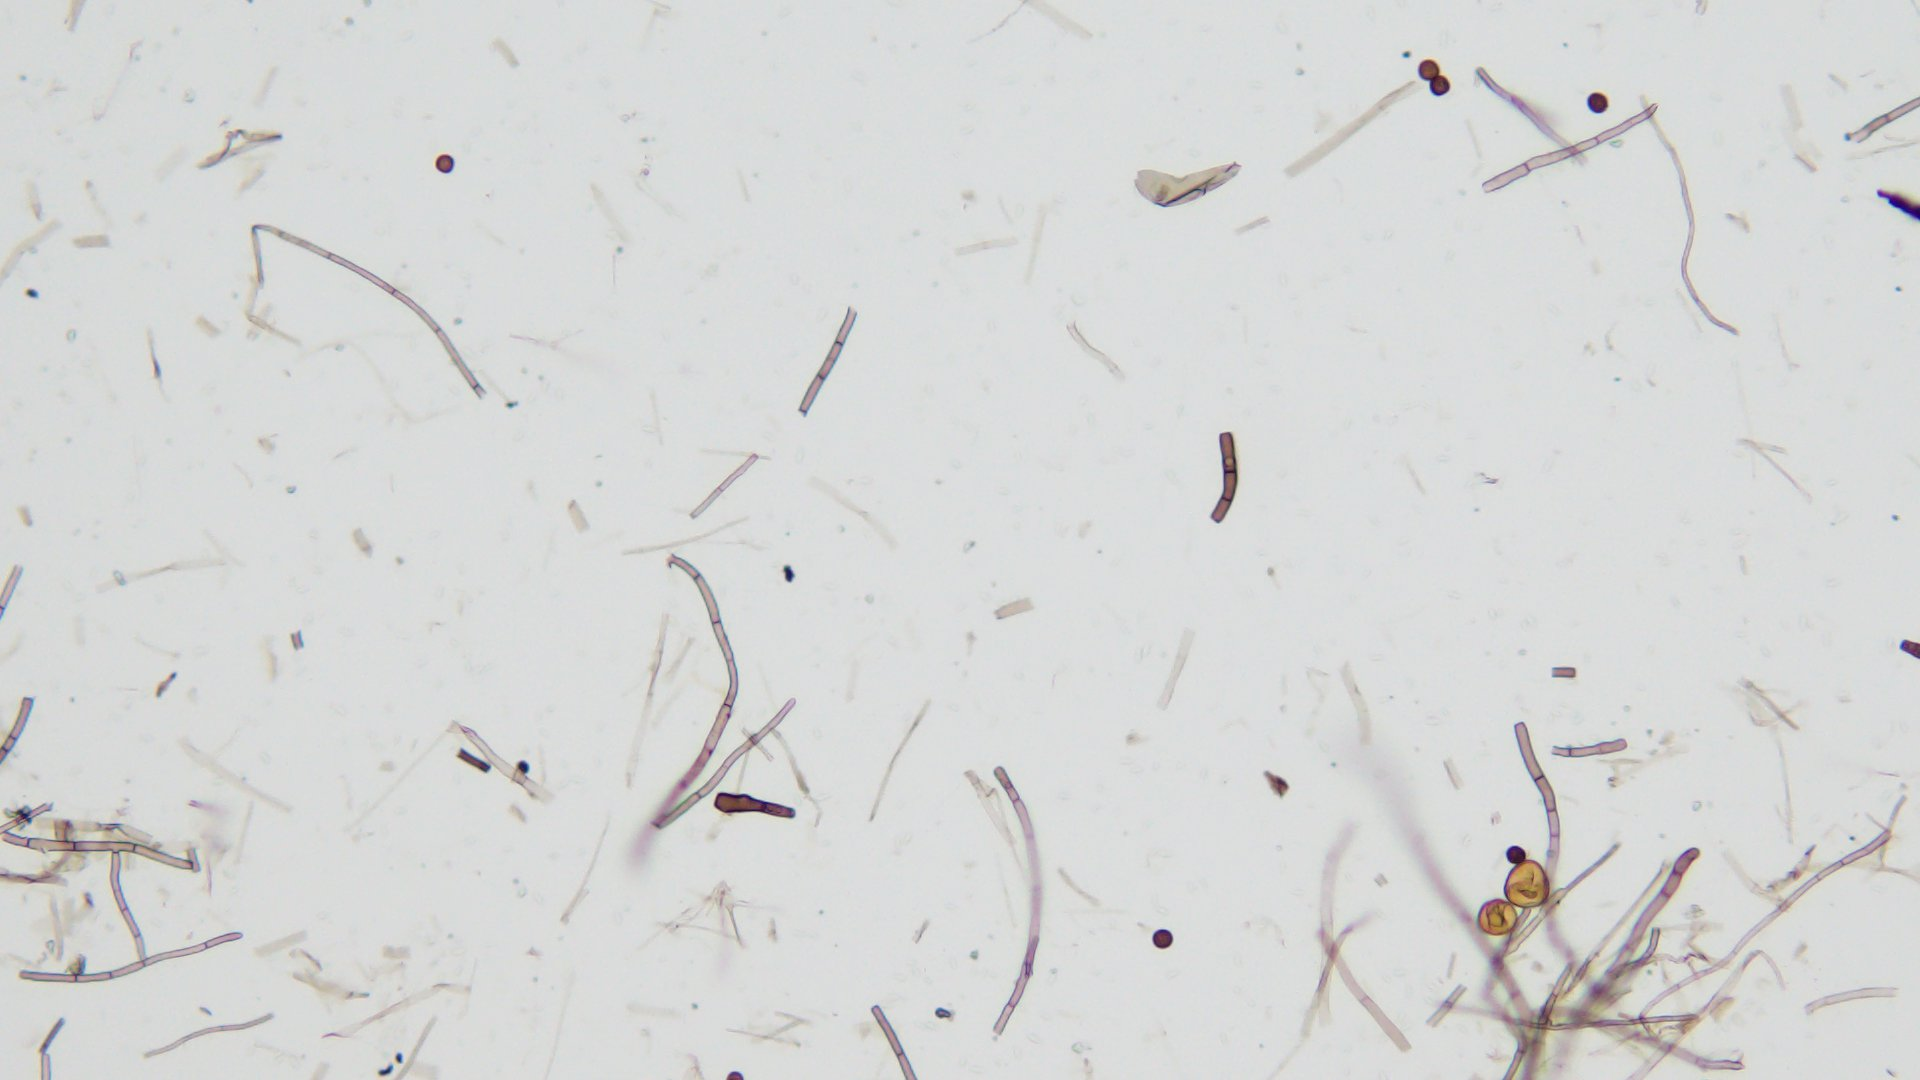shs_spore: (1153, 927, 1174, 948), (433, 154, 455, 174), (1418, 59, 1437, 79), (1429, 76, 1449, 96), (1589, 91, 1606, 112), (1505, 845, 1524, 862)
xb_spore: (1501, 862, 1549, 907), (1476, 899, 1516, 934)
